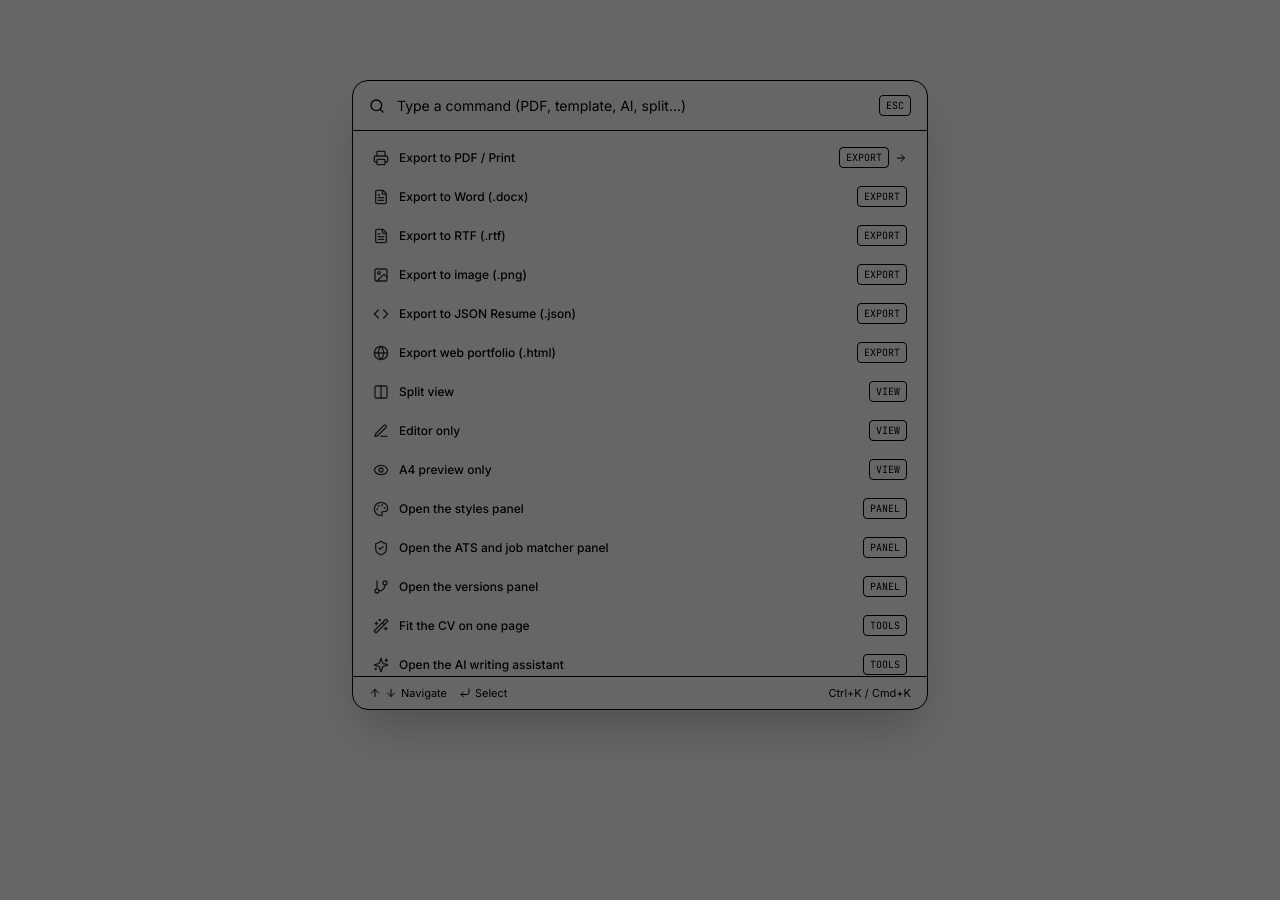
Test: CommandPalette › says so when nothing matches, instead of showing an empty box
The width and height of the screenshot is (1280, 900).
Type "qqqqqq" into the field. click: (632, 106)
box: [397,96,867,116]
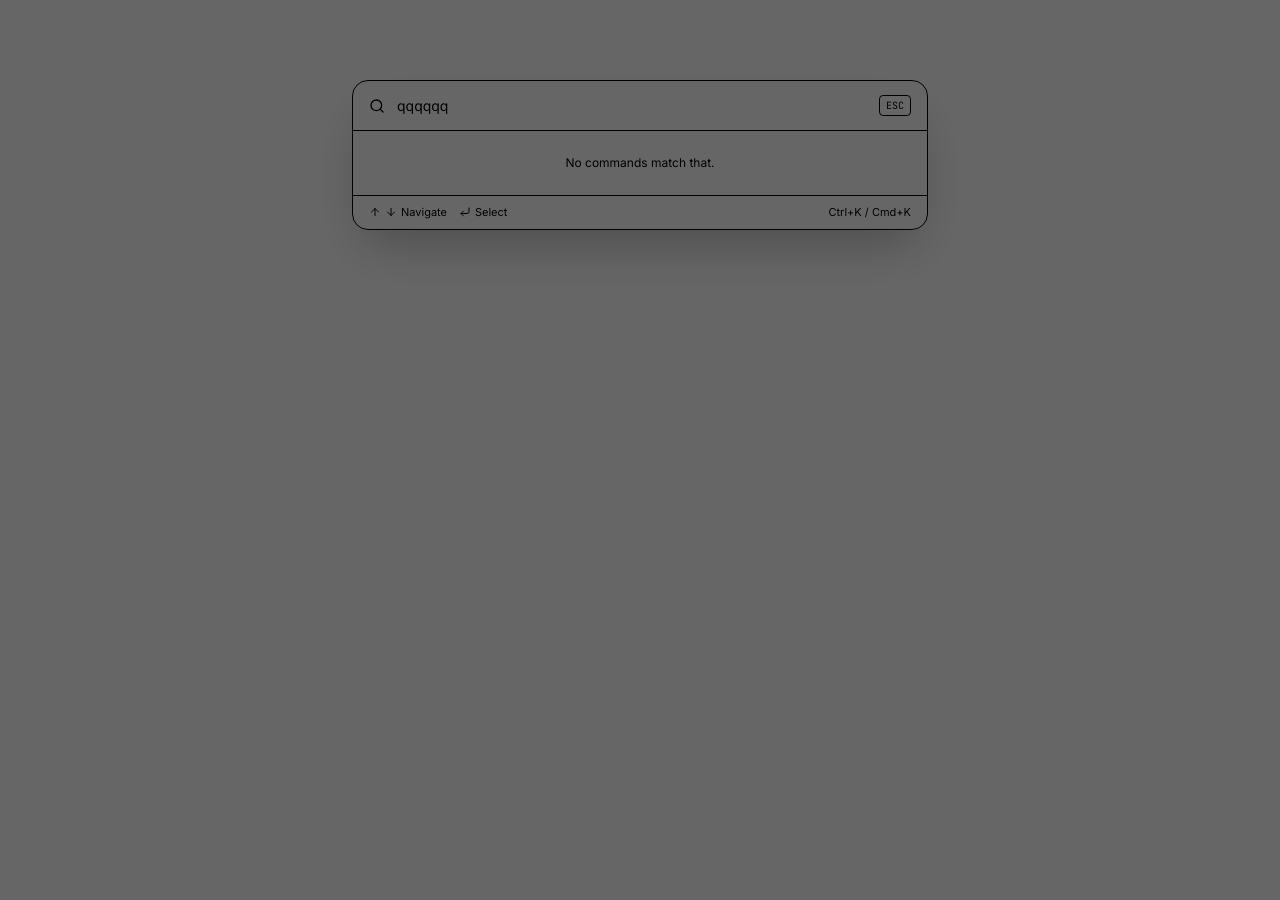
Expected: the text "No commands match that." is shown, [565,155,714,170]
